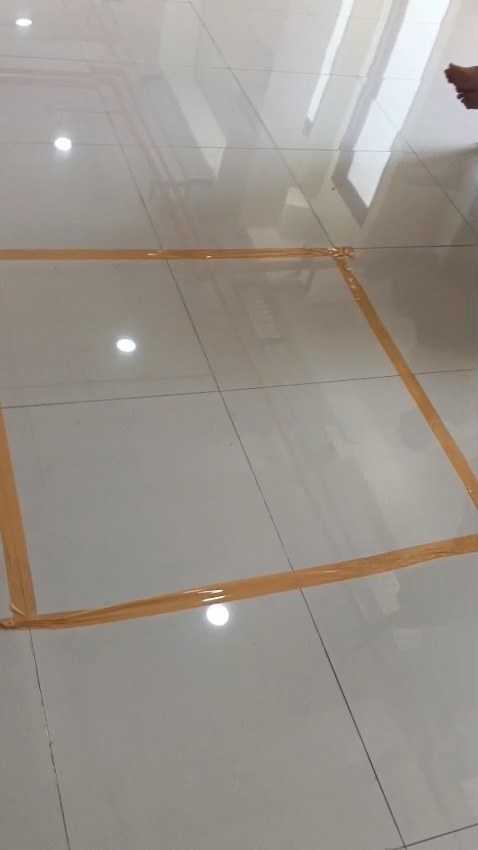floor marking: (0, 248, 477, 508), (0, 405, 477, 630)
